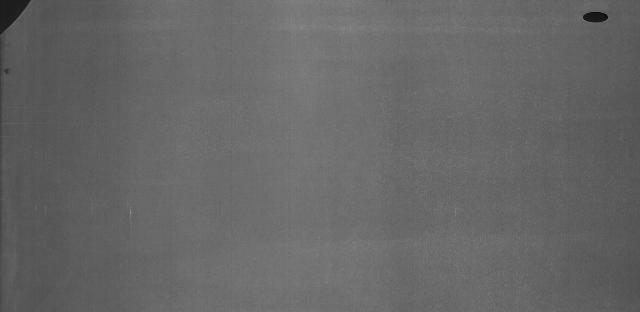punching_hole: (579, 7, 612, 26)
